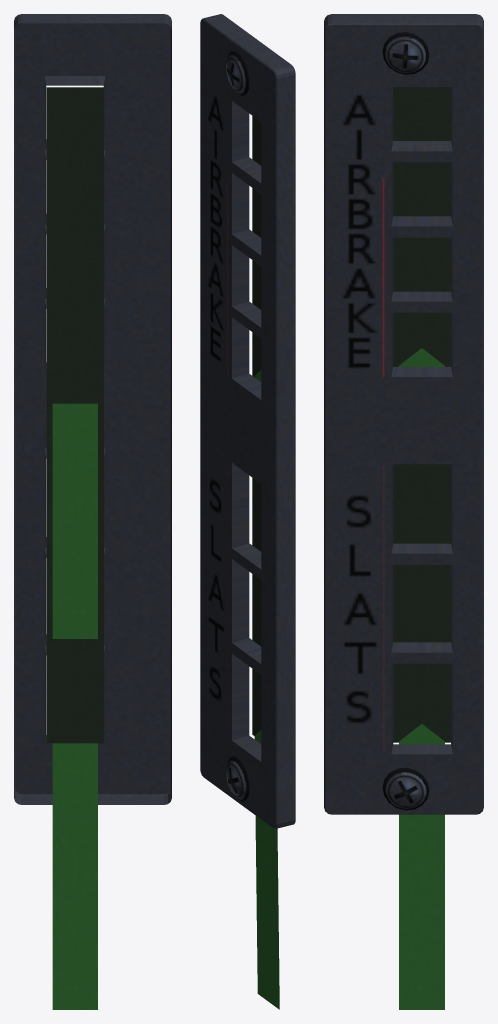
File: surf-indic.fbx
The picture shows the model from 3 angles, left to right: view 1: azimuth 90°, elevation 25°; view 2: azimuth 210°, elevation 25°; view 3: azimuth 270°, elevation 25°; orthographic projection. The views are drawn at different scales.
Parts seen in each view (by area): view 1: cadre, fond, rep-slats, rep-airbrake; view 2: cadre, text1, text2, rep-slats, fond, vis; view 3: cadre, fond, text1, text2, rep-slats, vis, rep-airbrake.
Boxes of the visible parts, <box> form: cadre: <box>14,14,171,804</box>; fond: <box>46,87,103,743</box>; rep-slats: <box>52,743,97,1009</box>; rep-airbrake: <box>52,403,97,638</box>; cadre: <box>200,14,295,828</box>; text1: <box>205,444,227,737</box>; text2: <box>205,83,227,375</box>; rep-slats: <box>254,730,279,1009</box>; fond: <box>252,116,261,735</box>; vis: <box>226,50,249,801</box>; cadre: <box>324,14,483,814</box>; fond: <box>393,87,450,742</box>; text1: <box>337,465,384,754</box>; text2: <box>337,88,384,376</box>; rep-slats: <box>399,724,444,1009</box>; vis: <box>382,32,429,810</box>; rep-airbrake: <box>399,348,444,366</box>.
Bounding box in the file's own units: 0.5968 × 2.6 × 17.9.
Materials: 1 (1 with a texture image).
